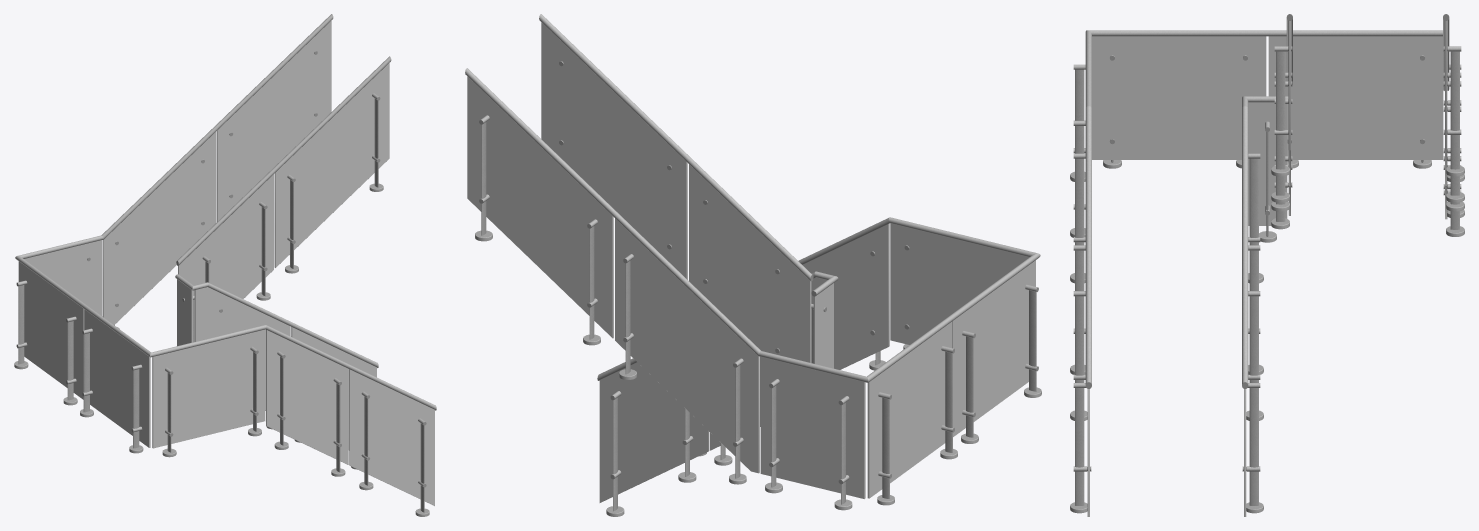
The model's file is Switchback_Railing_Konic.gltf.
3 views of the same model, side by side, from view 1: azimuth 30°, elevation 25°; view 2: azimuth 150°, elevation 25°; view 3: azimuth 270°, elevation 25° (orthographic). The views are drawn at different scales.
Visible parts, largest first — view 1: Casework 1 Casework 1 [8738332], Infill_Glass_Raked & Horizontal Generic [8736296], Infill_Glass_Raked & Horizontal Generic [8200579], Infill_Glass_Raked & Horizontal Generic [8739156], Infill_Glass_Raked & Horizontal Generic [8735940], Infill_Glass_Raked & Horizontal Generic [8739593], Infill_Glass_Raked & Horizontal Generic [8199751], Infill_Glass_Raked & Horizontal Generic [8739062], Infill_Glass_Raked & Horizontal Generic [8738822], Generic Models 10 Generic Models 1 [8735975], Infill_Glass_Raked & Horizontal Generic [8737682], Infill_Glass_Transition Generic [8202170] (+8 smaller); view 2: Infill_Glass_Raked & Horizontal Generic [8200579], Infill_Glass_Raked & Horizontal Generic [8736296], Casework 1 Casework 1 [8738332], Infill_Glass_Raked & Horizontal Generic [8199751], Infill_Glass_Raked & Horizontal Generic [8737682], Infill_Glass_Raked & Horizontal Generic [8739156], Infill_Glass_Raked & Horizontal Generic [8202939], Infill_Glass_Raked & Horizontal Generic [8738822], Infill_Glass_Raked & Horizontal Generic [8739062], Infill_Glass_Raked & Horizontal Generic [8739593], Generic Models 10 Generic Models 1 [8735975], Generic Models 2 Generic Models 2 [8568681] (+9 smaller); view 3: Infill_Glass_Raked & Horizontal Generic [8739062], Infill_Glass_Raked & Horizontal Generic [8738822], Generic Models 10 Generic Models 1 [8735975], Infill_Glass_Raked & Horizontal Generic [8201308], Generic Models 1 Generic Models 1 [8568048], LS201 & LS202 - Konic Post Material LS Material [9048587]001, LS201 & LS202 - Konic Post Material LS Material [9048890]001, LS201 & LS202 - Konic Post Material LS Material [9048652]001, LS201 & LS202 - Konic Post Material LS Material [9048834]001, LS201 & LS202 - Konic Post Material LS Material [9048501]001, LS201 & LS202 - Konic Post Material LS Material [9048819]001, LS201 & LS202 - Konic Post Material LS Material [9048634]001 (+4 smaller).
Boxes of the visible parts, bbox=[...] form: Casework 1 Casework 1 [8738332]: bbox=[102, 132, 215, 324]; Infill_Glass_Raked & Horizontal Generic [8736296]: bbox=[216, 20, 331, 222]; Infill_Glass_Raked & Horizontal Generic [8200579]: bbox=[274, 63, 389, 267]; Infill_Glass_Raked & Horizontal Generic [8739156]: bbox=[152, 329, 265, 448]; Infill_Glass_Raked & Horizontal Generic [8735940]: bbox=[349, 369, 434, 505]; Infill_Glass_Raked & Horizontal Generic [8739593]: bbox=[266, 329, 348, 464]; Infill_Glass_Raked & Horizontal Generic [8199751]: bbox=[178, 174, 273, 341]; Infill_Glass_Raked & Horizontal Generic [8739062]: bbox=[84, 309, 150, 447]; Infill_Glass_Raked & Horizontal Generic [8738822]: bbox=[18, 261, 84, 399]; Generic Models 10 Generic Models 1 [8735975]: bbox=[15, 14, 436, 410]; Infill_Glass_Raked & Horizontal Generic [8737682]: bbox=[24, 240, 101, 315]; Infill_Glass_Transition Generic [8202170]: bbox=[194, 287, 290, 410]; Infill_Glass_Raked & Horizontal Generic [8200579]: bbox=[541, 22, 687, 279]; Infill_Glass_Raked & Horizontal Generic [8736296]: bbox=[467, 76, 613, 338]; Casework 1 Casework 1 [8738332]: bbox=[615, 218, 759, 473]; Infill_Glass_Raked & Horizontal Generic [8199751]: bbox=[689, 164, 811, 362]; Infill_Glass_Raked & Horizontal Generic [8737682]: bbox=[760, 357, 865, 498]; Infill_Glass_Raked & Horizontal Generic [8739156]: bbox=[890, 223, 1028, 344]; Infill_Glass_Raked & Horizontal Generic [8202939]: bbox=[599, 362, 709, 502]; Infill_Glass_Raked & Horizontal Generic [8738822]: bbox=[867, 321, 952, 498]; Infill_Glass_Raked & Horizontal Generic [8739062]: bbox=[952, 260, 1035, 436]; Infill_Glass_Raked & Horizontal Generic [8739593]: bbox=[802, 223, 889, 369]; Generic Models 10 Generic Models 1 [8735975]: bbox=[465, 68, 1040, 382]; Generic Models 2 Generic Models 2 [8568681]: bbox=[539, 14, 813, 281]; Infill_Glass_Raked & Horizontal Generic [8739062]: bbox=[1092, 36, 1266, 159]; Infill_Glass_Raked & Horizontal Generic [8738822]: bbox=[1268, 36, 1443, 159]; Generic Models 10 Generic Models 1 [8735975]: bbox=[1085, 14, 1449, 388]; Infill_Glass_Raked & Horizontal Generic [8201308]: bbox=[1248, 102, 1287, 225]; Generic Models 1 Generic Models 1 [8568048]: bbox=[1242, 96, 1288, 388]; LS201 & LS202 - Konic Post Material LS Material [9048587]001: bbox=[1276, 51, 1285, 169]; LS201 & LS202 - Konic Post Material LS Material [9048890]001: bbox=[1450, 51, 1459, 169]; LS201 & LS202 - Konic Post Material LS Material [9048652]001: bbox=[1249, 388, 1258, 505]; LS201 & LS202 - Konic Post Material LS Material [9048834]001: bbox=[1075, 388, 1084, 505]; LS201 & LS202 - Konic Post Material LS Material [9048501]001: bbox=[1249, 158, 1258, 245]; LS201 & LS202 - Konic Post Material LS Material [9048819]001: bbox=[1075, 158, 1084, 245]; LS201 & LS202 - Konic Post Material LS Material [9048634]001: bbox=[1249, 296, 1258, 382].
Bounding box in the file's own units: 3.08 × 3.51 × 2.39.
4 materials, 2 textured.
